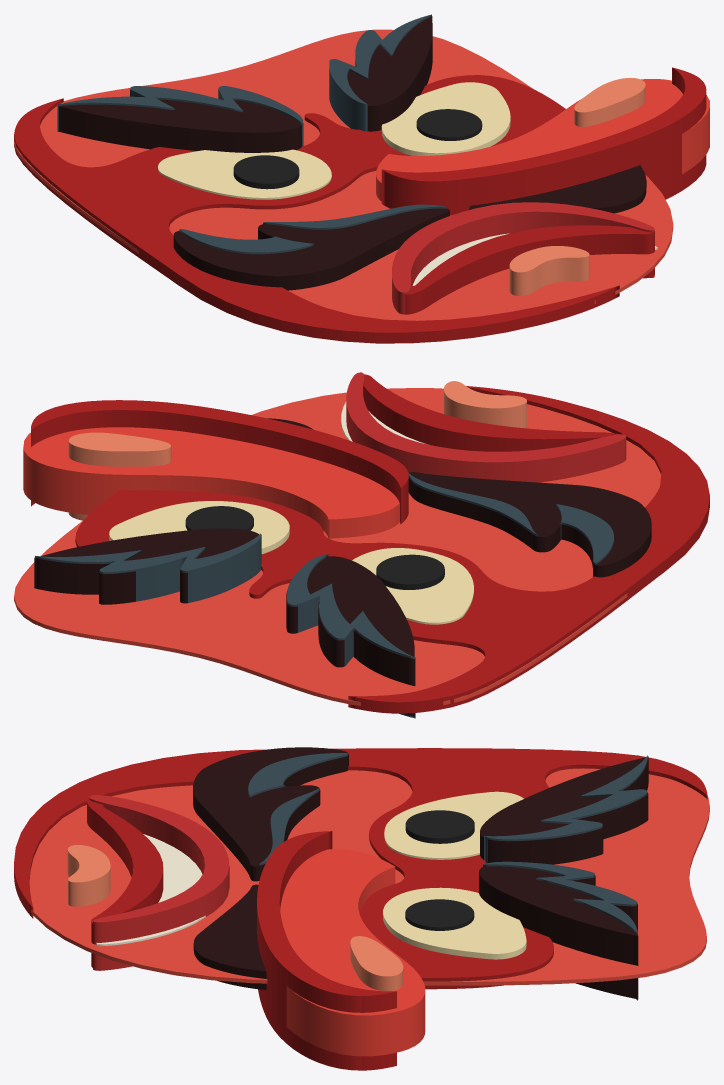
Rendered from emoji_u1f47a.glb.
3 renders of one model, top to bottom at view 1: azimuth 30°, elevation 25°; view 2: azimuth 150°, elevation 25°; view 3: azimuth 270°, elevation 25°, orthographic. The views are drawn at different scales.
Parts seen in each view (by area): view 1: emoji_u1f47a; view 2: emoji_u1f47a; view 3: emoji_u1f47a.
Boxes of the visible parts, left/top/right/bottom form: emoji_u1f47a: left=14, top=14, right=709, bottom=343; emoji_u1f47a: left=14, top=372, right=709, bottom=718; emoji_u1f47a: left=14, top=747, right=709, bottom=1070.
Size of the model in its own units: 0.0325 by 0.004 by 0.0339.
